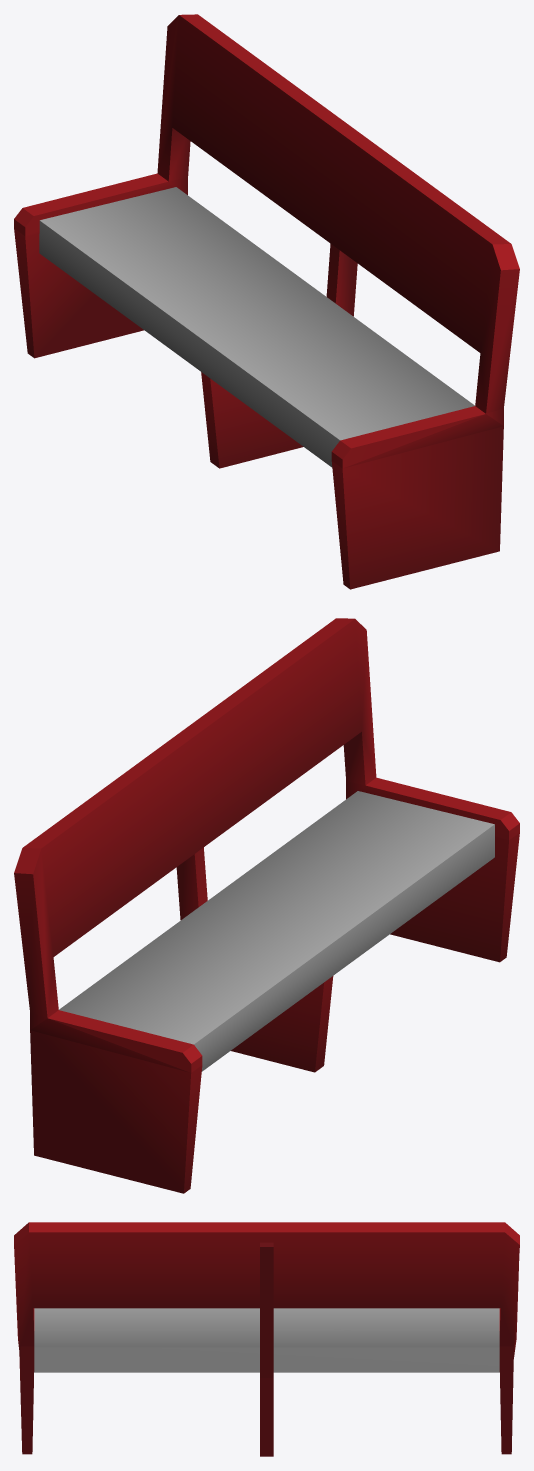
The model's file is Bench.glb.
3 renders of one model, top to bottom at view 1: azimuth 30°, elevation 25°; view 2: azimuth 150°, elevation 25°; view 3: azimuth 270°, elevation 25°, orthographic. The views are drawn at different scales.
Visible parts, largest first — view 1: bench; view 2: bench; view 3: bench.
Boxes of the visible parts, <box> form: bench: <box>14,14,519,589</box>; bench: <box>14,618,519,1193</box>; bench: <box>14,1222,519,1456</box>.
Bounding box in the file's own units: 0.6444 × 1.03 × 2.03.
